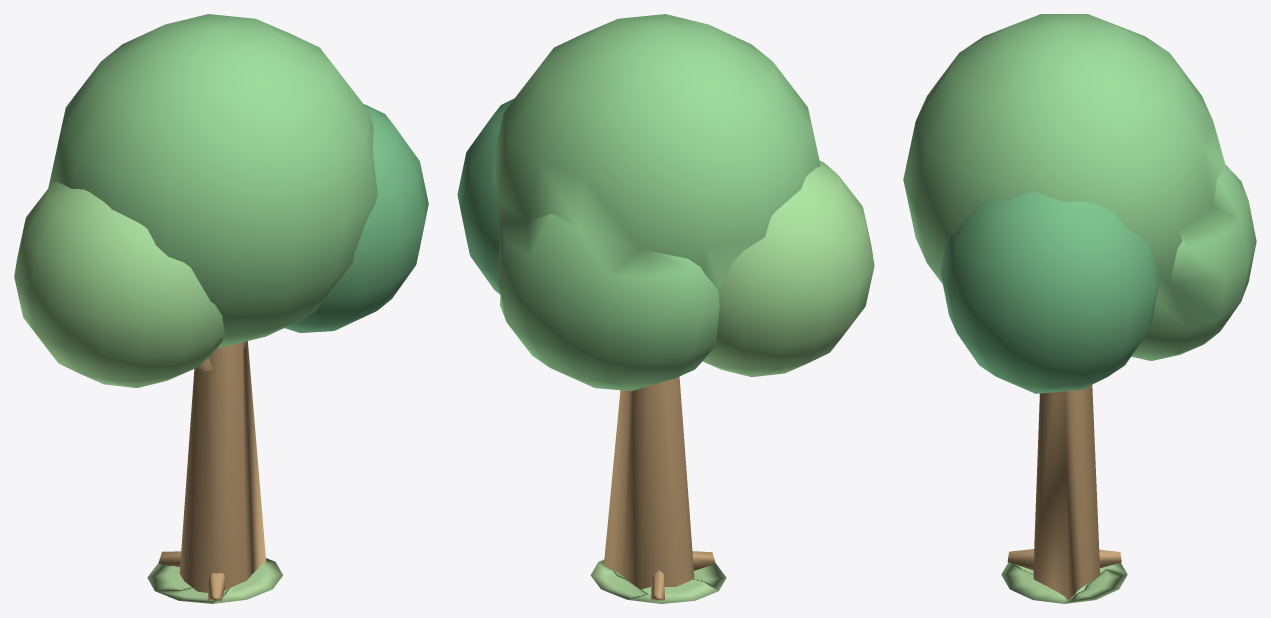
File: tree_v1_summer_low.glb
3 views of the same model, side by side, from view 1: azimuth 30°, elevation 25°; view 2: azimuth 150°, elevation 25°; view 3: azimuth 270°, elevation 25° (orthographic).
Bounding box in the file's own units: 3.6 × 4.9 × 2.85.
